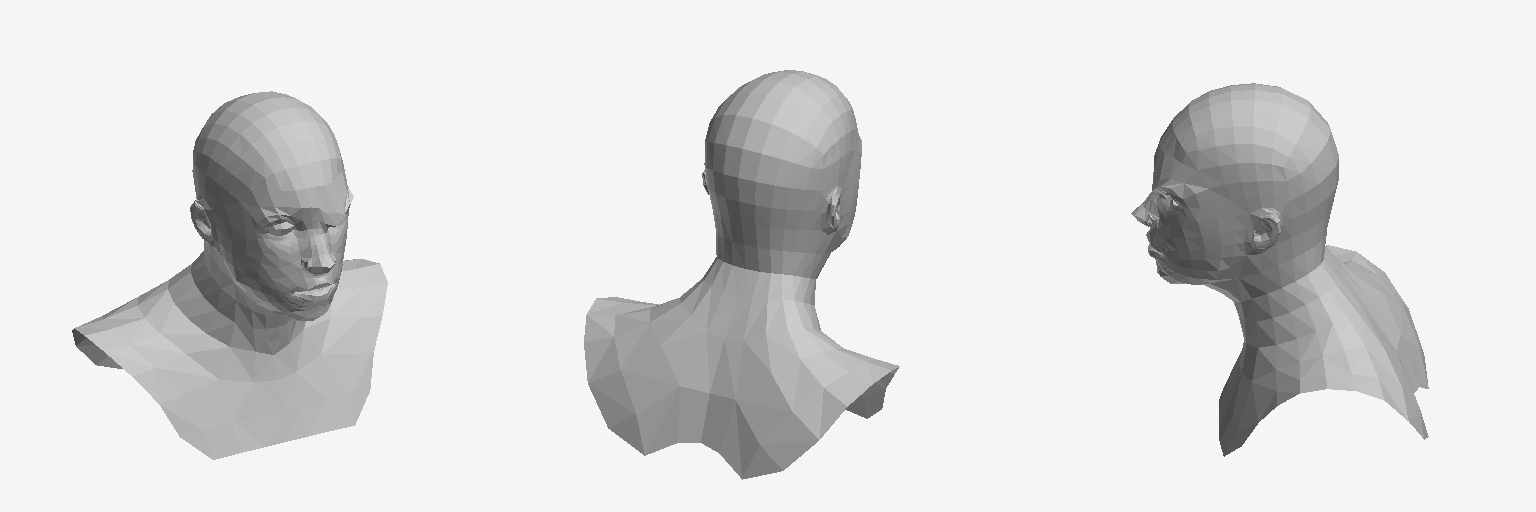
Rendered from LEyebrowDown.obj.
3 views of the same model, side by side, from view 1: azimuth 30°, elevation 25°; view 2: azimuth 150°, elevation 25°; view 3: azimuth 270°, elevation 25° (orthographic).
Parts seen in each view (by area): view 1: LeyebrowDown Blendshapes; view 2: LeyebrowDown Blendshapes; view 3: LeyebrowDown Blendshapes.
Part boxes in pixels (x1,y1,x2,y2): LeyebrowDown Blendshapes: (72,91,387,459); LeyebrowDown Blendshapes: (584,70,899,479); LeyebrowDown Blendshapes: (1131,83,1428,456).
Size of the model in its own units: 449 by 482 by 391.